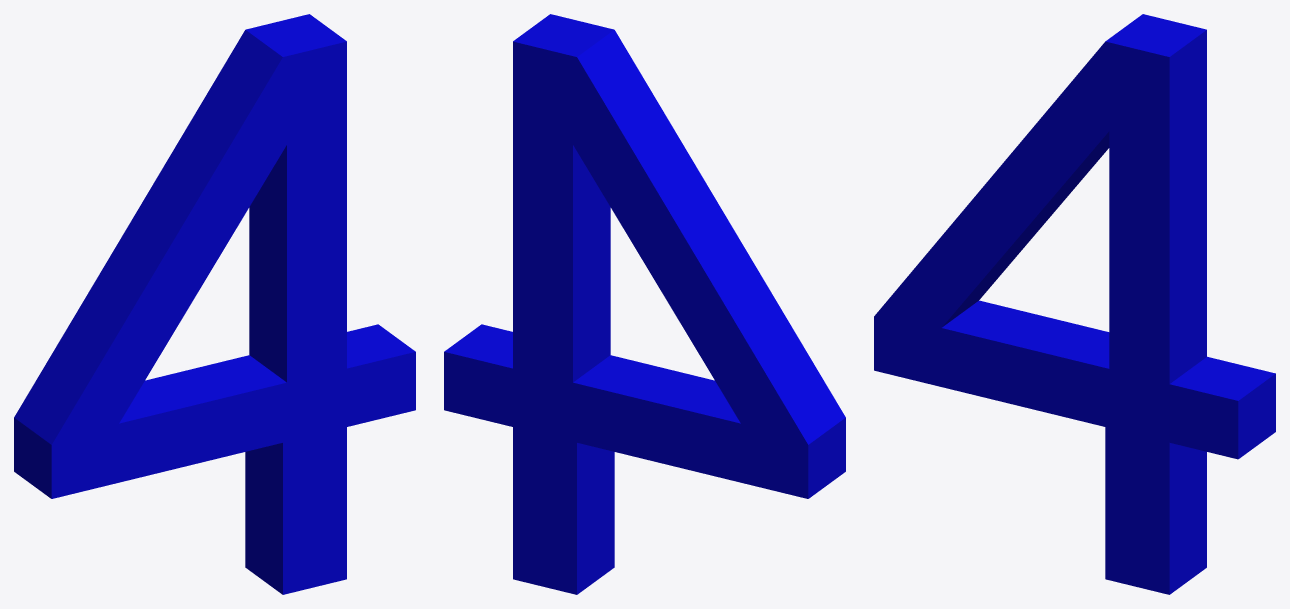
Rendered from dört.fbx.
The picture shows the model from 3 angles, left to right: view 1: azimuth 30°, elevation 25°; view 2: azimuth 150°, elevation 25°; view 3: azimuth 330°, elevation 25°; orthographic projection.
Parts seen in each view (by area): view 1: typeMesh1; view 2: typeMesh1; view 3: typeMesh1.
Part boxes in pixels (x1,y1,x2,y2): typeMesh1: (14, 14, 415, 594); typeMesh1: (444, 14, 845, 594); typeMesh1: (874, 14, 1275, 594).
Bounding box in the file's own units: 7.45 × 10.52 × 1.33.
